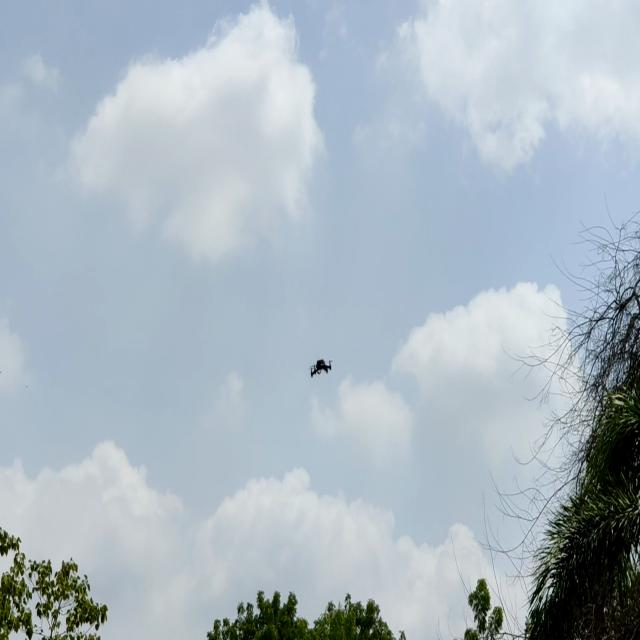drone: (306, 349, 336, 378)
